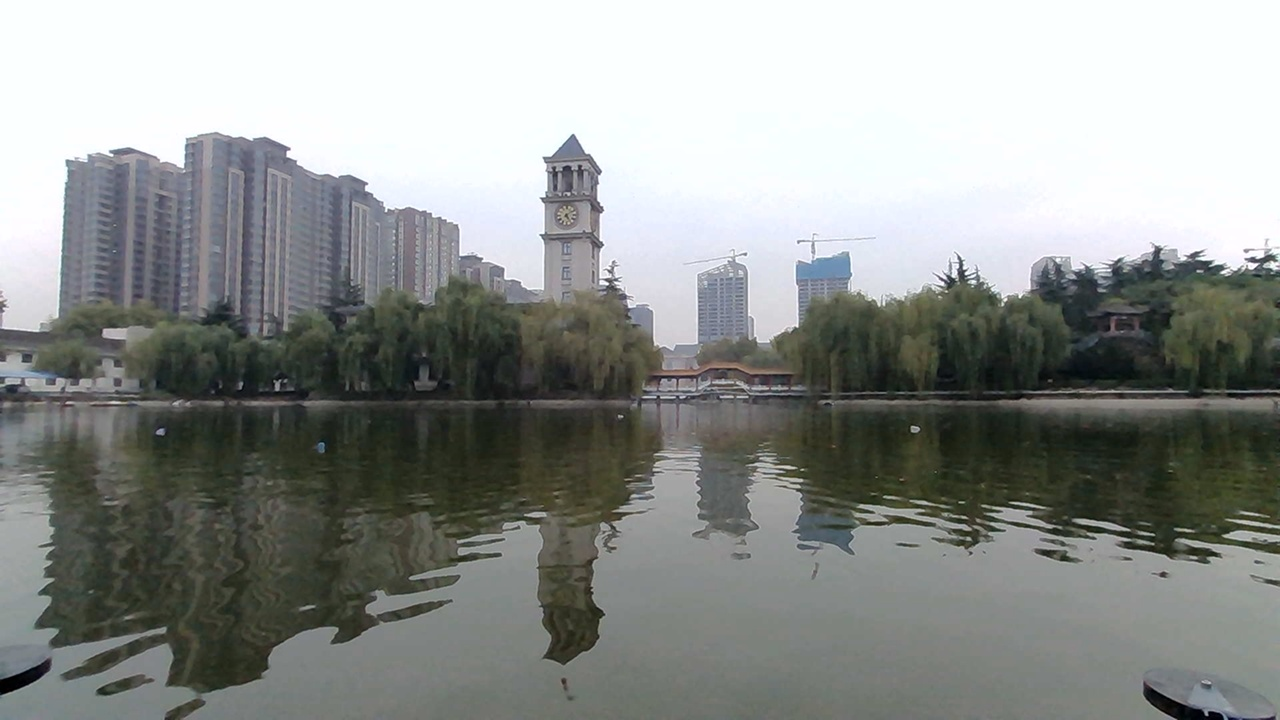bottle: (902, 416, 940, 437), (309, 436, 343, 458), (153, 415, 174, 443)
